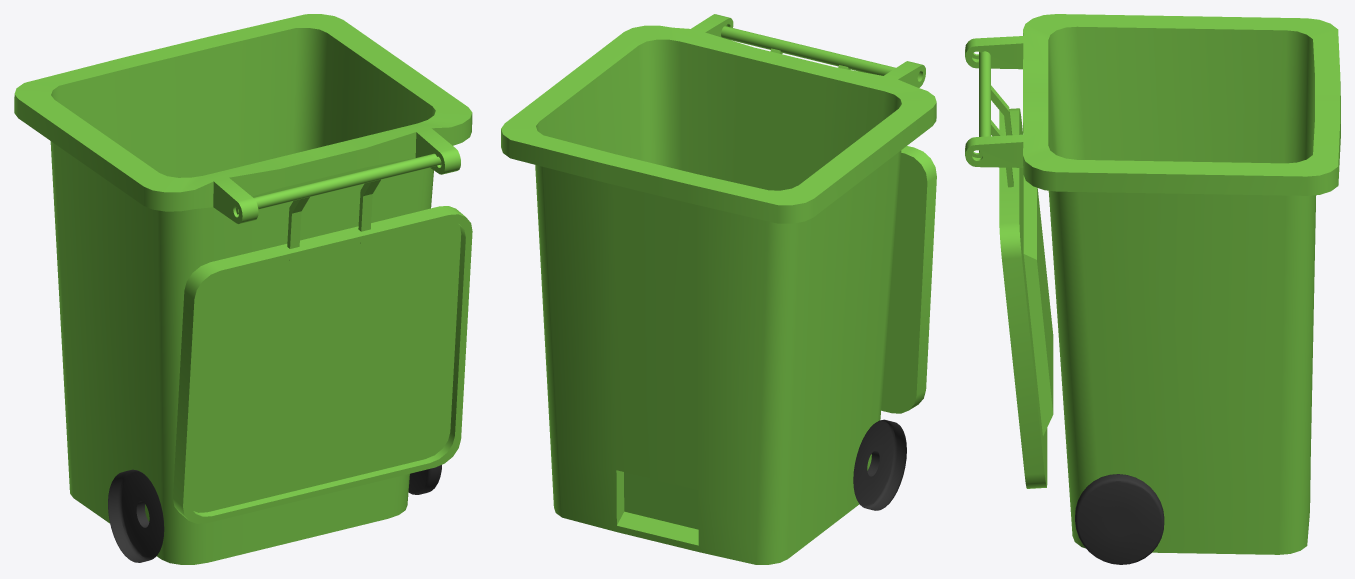
The model's file is Props_Garbage_04.fbx.
The picture shows the model from 3 angles, left to right: view 1: azimuth 30°, elevation 25°; view 2: azimuth 150°, elevation 25°; view 3: azimuth 270°, elevation 25°; orthographic projection. The views are drawn at different scales.
Parts seen in each view (by area): view 1: Props_Garbage_04; view 2: Props_Garbage_04; view 3: Props_Garbage_04.
Boxes of the visible parts, x1,y1,x2,y2 form: Props_Garbage_04: [14, 14, 472, 564]; Props_Garbage_04: [501, 14, 936, 564]; Props_Garbage_04: [965, 14, 1340, 564].
Size of the model in its own units: 100 by 120 by 100.
